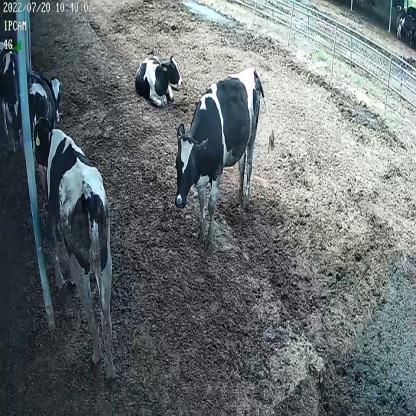cow: (31, 119, 120, 375), (173, 63, 277, 245), (0, 37, 24, 154), (134, 51, 184, 106), (26, 68, 63, 131)
